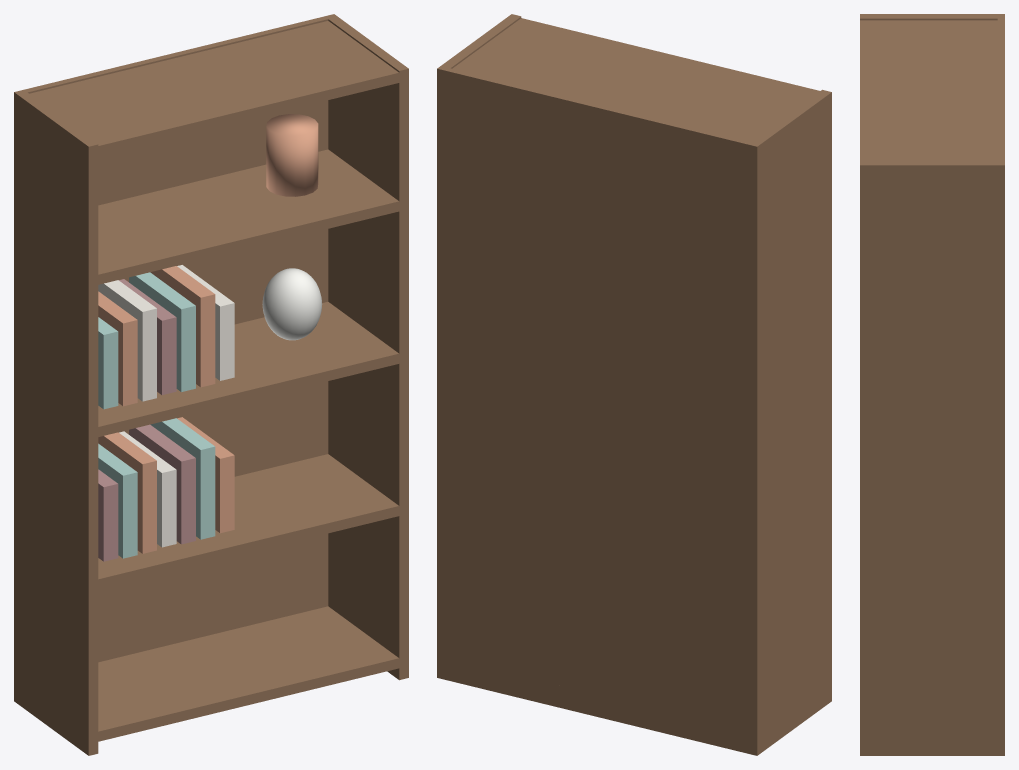
The model's file is shelf.glb.
3 renders of one model, left to right at view 1: azimuth 30°, elevation 25°; view 2: azimuth 150°, elevation 25°; view 3: azimuth 270°, elevation 25°, orthographic. The views are drawn at different scales.
Parts seen in each view (by area): view 1: shelf; view 2: shelf; view 3: shelf.
Boxes of the visible parts, x1=… form: shelf: x1=14, y1=14, x2=408, y2=755; shelf: x1=437, y1=14, x2=831, y2=755; shelf: x1=860, y1=14, x2=1004, y2=755.
Size of the model in its own units: 0.99 by 1.8 by 0.4.
